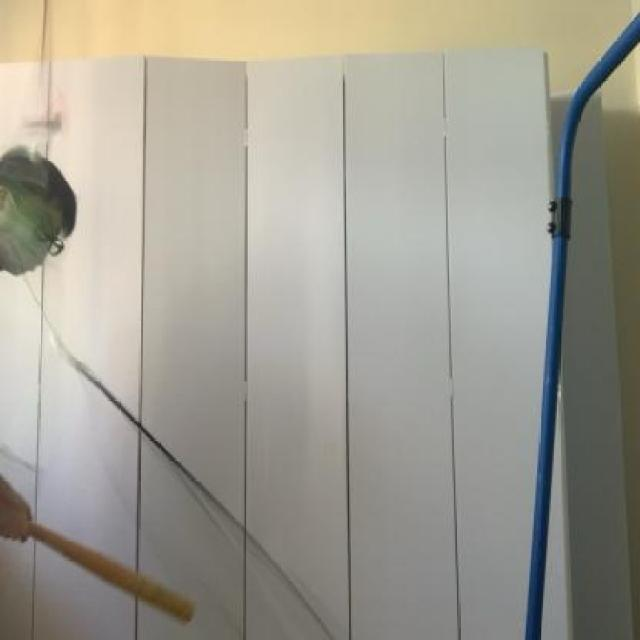baseball: (0, 165, 77, 280)
